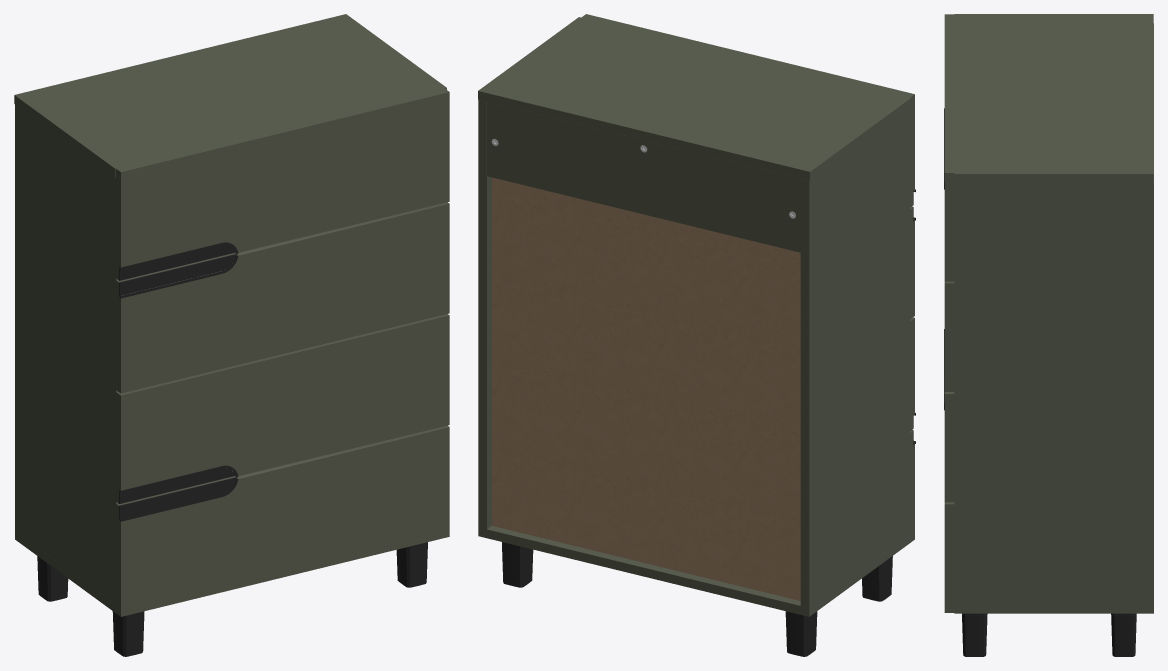
3 views of the same model, side by side, from view 1: azimuth 30°, elevation 25°; view 2: azimuth 150°, elevation 25°; view 3: azimuth 270°, elevation 25° (orthographic).
Visible parts, largest first — view 1: SketchUp.606, Cube, SketchUp.001, SketchUp.379, SketchUp.411, SketchUp.250, group_0.326, group_0.327, group_0.329; view 2: SketchUp.233, SketchUp.606, Cube, group_0.329, group_0.328, group_0.326; view 3: SketchUp.606, Cube, group_0.328, group_0.327.
Part boxes in pixels (x1,y1,x2,y2): SketchUp.606: (15, 88, 449, 616); Cube: (14, 14, 446, 177); SketchUp.001: (119, 477, 238, 521); SketchUp.379: (119, 254, 238, 298); SketchUp.411: (119, 242, 238, 280); SketchUp.250: (119, 465, 238, 503); group_0.326: (112, 611, 144, 656); group_0.327: (396, 542, 427, 587); group_0.329: (37, 556, 68, 601); SketchUp.233: (492, 177, 800, 600); SketchUp.606: (478, 14, 914, 616); Cube: (478, 17, 910, 180); group_0.329: (785, 611, 817, 656); group_0.328: (502, 542, 533, 587); group_0.326: (862, 556, 892, 601); SketchUp.606: (944, 14, 1153, 613); Cube: (954, 14, 1153, 182); group_0.328: (1111, 613, 1136, 656); group_0.327: (962, 613, 987, 656).
Bounding box in the file's own units: 0.7027 × 1 × 0.3891.
Materials: 17 (1 with a texture image).
